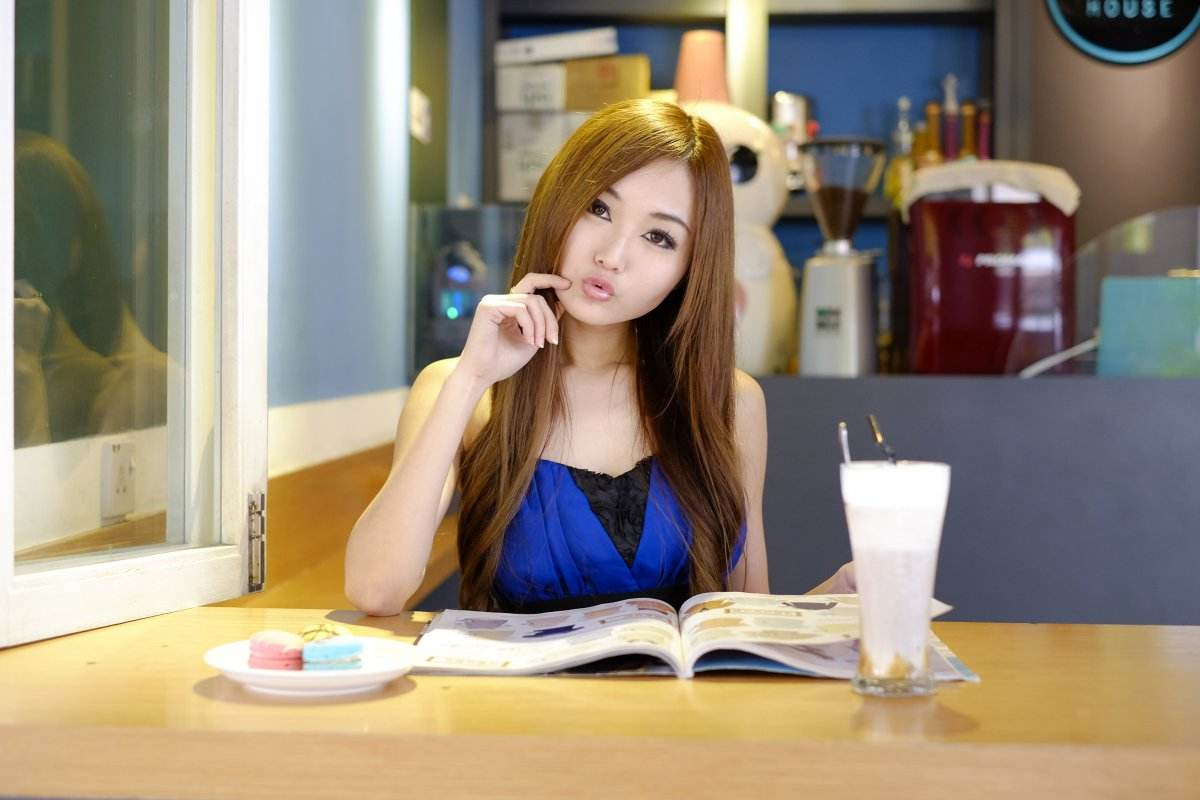person: (369, 116, 758, 635)
